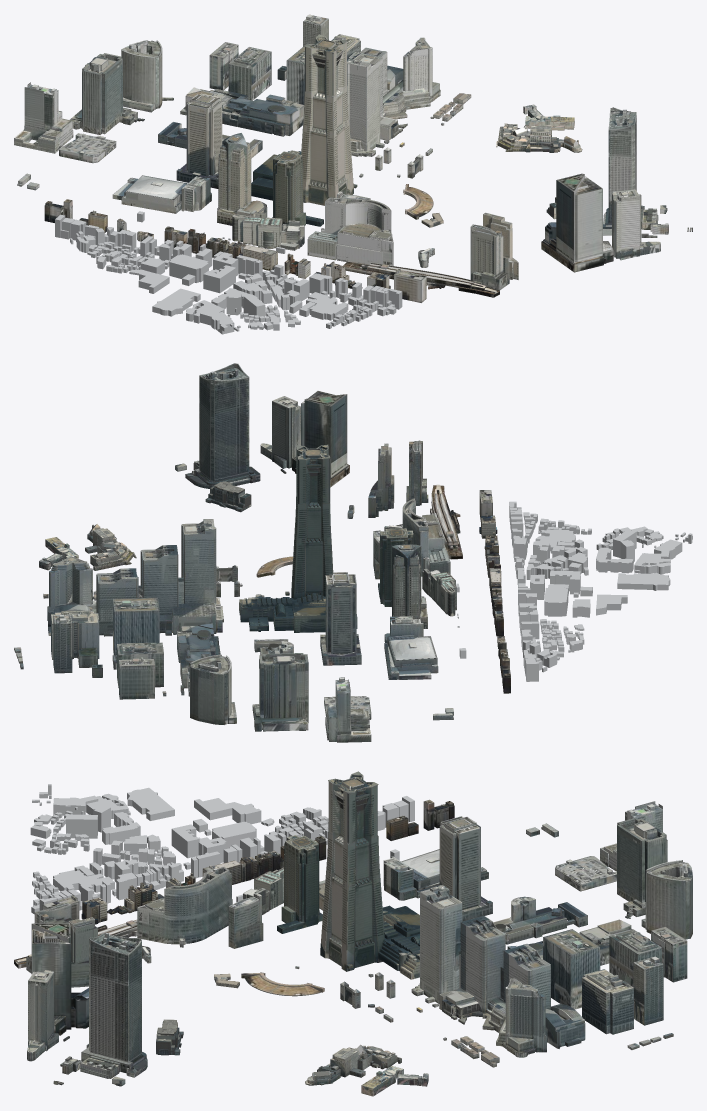
File: yokohama.glb
3 views of the same model, one above another, from view 1: azimuth 30°, elevation 25°; view 2: azimuth 150°, elevation 25°; view 3: azimuth 270°, elevation 25° (orthographic). The views are drawn at different scales.
Bounding box in the file's own units: 1076 × 305 × 1065.
29 materials, 18 textured.
